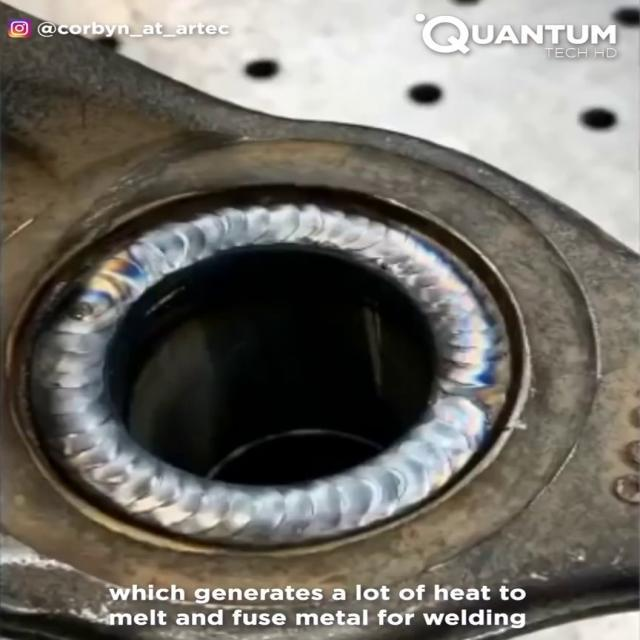Good Weld: (78, 459, 430, 542), (406, 263, 512, 469), (124, 211, 435, 265), (35, 268, 118, 454)
